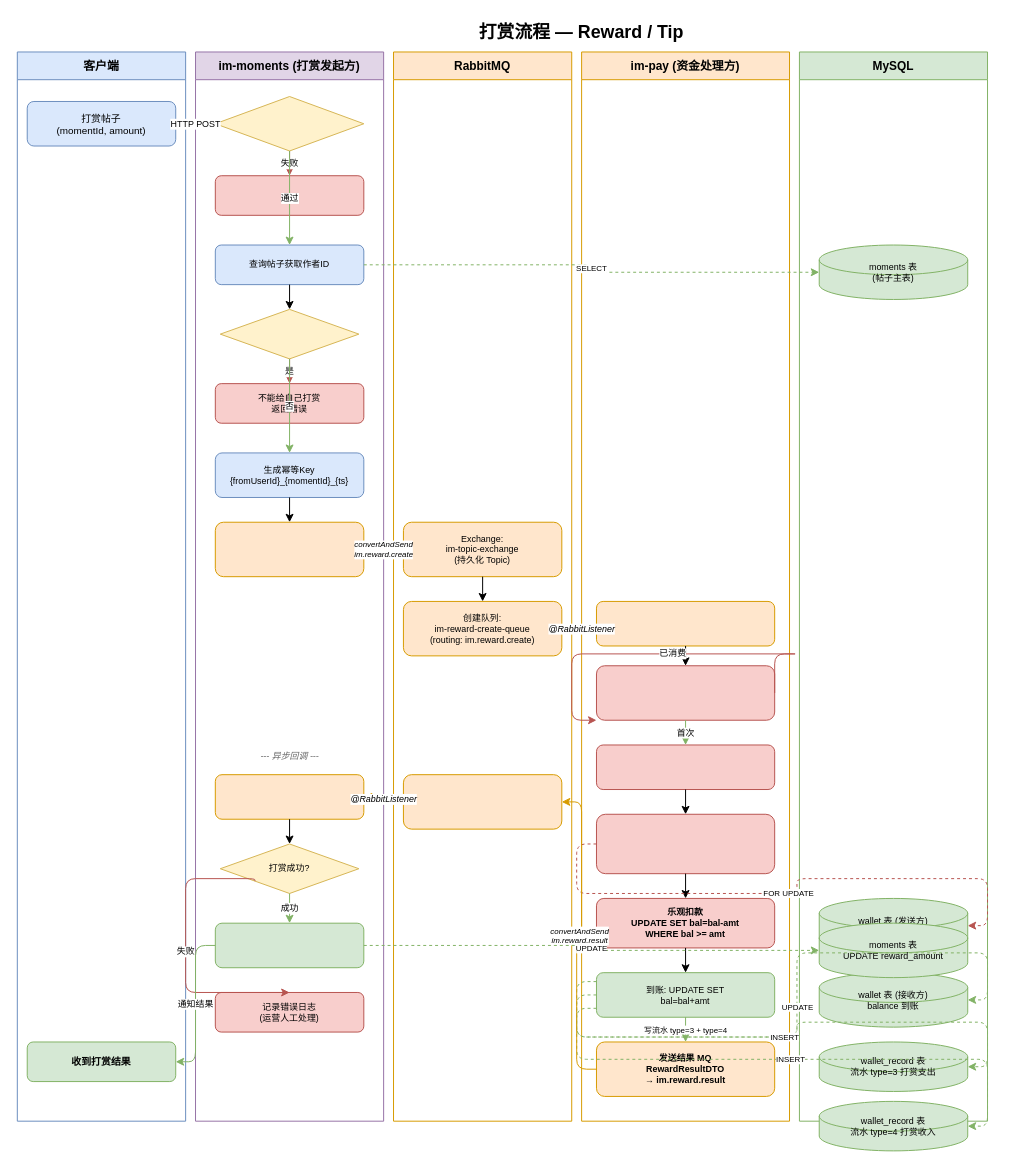
Some shapes in this 1013 by 1168 pixel diagram are drawn without their labels. Each missing label, with the centre of its shape:
RewardMessageListener 消费打赏请求: [685,623]
RewardResultListener 消费结果 MQ: [289,796]
transferForReward() @Transactional 转账: [685,767]
发送打赏请求 MQ RewardMessageDTO → im.reward.create: [289,549]
打赏自己?: [289,333]
按 userId 升序锁定 (防死锁): SELECT FOR UPDATE min(Id) SELECT FOR UPDATE max(Id): [685,843]
更新 moments 表 reward_amount 字段: [289,945]
校验金额范围 0.01 ≤ amount ≤ 200: [289,123]
结果队列: im-reward-result-queue (routing: im.reward.result): [482,801]
金额不合法 返回错误: [289,195]
🔒 Redisson SetNX 幂等校验 key="reward:"+idempotentKey TTL=300s 防重复消费: [685,692]
